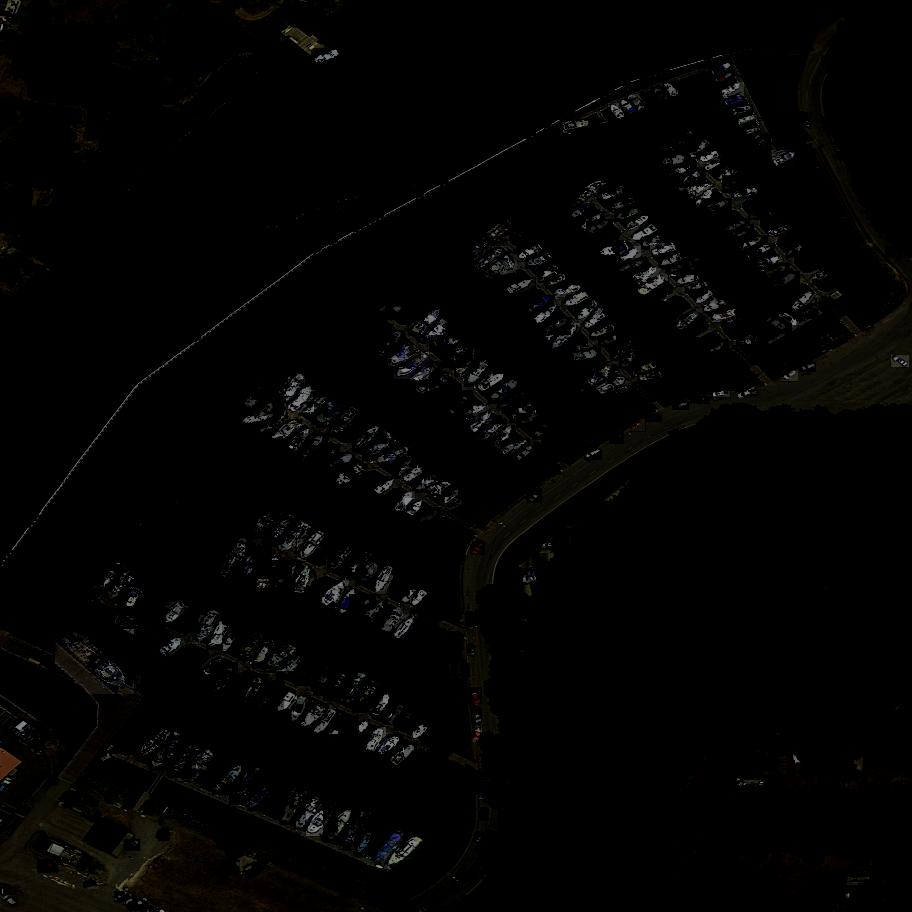ship: (55, 625, 135, 697), (232, 367, 285, 421), (462, 216, 518, 265), (102, 607, 166, 649), (345, 309, 388, 353), (216, 533, 252, 584), (230, 761, 269, 808), (150, 727, 186, 776), (262, 508, 303, 551), (247, 497, 284, 544), (323, 802, 363, 845), (339, 809, 374, 854), (135, 724, 174, 763), (384, 834, 424, 872), (179, 747, 219, 785), (260, 640, 301, 675), (278, 519, 315, 557), (409, 306, 447, 343), (569, 176, 610, 210), (254, 549, 284, 595), (312, 395, 349, 432), (213, 761, 250, 798), (236, 543, 272, 581), (352, 420, 388, 457), (87, 562, 125, 597), (323, 713, 360, 748), (270, 559, 304, 597), (328, 403, 361, 442), (253, 679, 286, 717), (373, 828, 405, 867), (294, 793, 324, 834), (353, 677, 384, 716), (340, 548, 374, 583), (330, 461, 368, 492), (394, 351, 430, 383), (307, 803, 339, 839), (194, 607, 222, 648), (382, 342, 421, 371), (359, 324, 394, 356), (169, 742, 197, 782), (297, 528, 327, 565), (385, 289, 418, 322), (310, 443, 341, 477), (487, 376, 522, 406), (444, 336, 474, 371), (237, 628, 266, 664), (105, 570, 134, 606), (238, 406, 281, 430), (279, 371, 306, 409), (319, 579, 351, 611), (270, 418, 304, 448), (299, 431, 329, 465), (324, 668, 353, 703), (342, 671, 368, 710), (247, 779, 275, 815), (375, 444, 415, 469), (297, 703, 329, 734), (475, 245, 508, 275), (281, 785, 304, 828), (212, 659, 238, 697), (295, 656, 323, 691), (652, 135, 698, 156), (588, 361, 619, 392), (286, 424, 318, 454), (444, 389, 474, 421), (277, 653, 309, 683), (550, 322, 580, 354), (455, 346, 484, 379), (415, 373, 452, 398), (411, 360, 444, 388), (299, 395, 337, 419), (676, 166, 706, 196), (260, 409, 292, 437), (475, 419, 507, 447), (378, 329, 406, 361), (373, 732, 405, 760), (350, 592, 377, 625), (161, 601, 191, 630), (328, 545, 355, 577), (417, 323, 457, 344), (363, 437, 394, 464), (313, 661, 335, 698), (287, 385, 315, 414), (356, 561, 384, 590), (207, 621, 233, 652), (292, 564, 315, 599), (245, 672, 268, 707), (596, 374, 629, 398), (611, 335, 639, 363), (464, 361, 491, 390), (639, 272, 669, 298), (315, 708, 340, 739), (390, 740, 418, 767), (477, 368, 507, 393), (393, 612, 418, 642), (668, 159, 698, 184), (374, 564, 396, 598), (429, 334, 468, 353), (525, 294, 554, 319), (289, 694, 311, 726), (383, 604, 405, 636), (675, 309, 703, 334), (365, 724, 387, 755), (252, 640, 274, 671), (745, 243, 776, 265), (790, 289, 816, 315), (158, 636, 185, 661), (370, 691, 393, 720), (501, 437, 531, 459), (338, 586, 359, 617), (469, 409, 495, 434), (561, 292, 593, 312), (493, 424, 515, 453), (739, 234, 768, 256), (510, 401, 536, 425), (442, 483, 466, 509), (576, 298, 600, 324), (394, 455, 417, 482), (534, 305, 561, 328), (702, 198, 733, 218), (311, 47, 341, 67), (581, 210, 606, 234), (507, 278, 537, 298), (416, 505, 442, 528), (385, 701, 408, 727), (484, 260, 517, 278), (618, 258, 649, 277), (328, 452, 356, 473), (413, 473, 441, 494), (545, 317, 573, 338), (356, 830, 376, 859), (525, 251, 554, 271), (497, 390, 522, 413), (201, 654, 224, 679), (632, 224, 659, 245), (598, 242, 631, 259), (539, 262, 563, 285), (568, 200, 592, 223), (373, 476, 398, 498), (582, 309, 607, 331), (587, 219, 614, 239), (428, 478, 456, 497), (764, 317, 792, 336), (367, 600, 390, 623), (276, 692, 298, 716), (666, 261, 701, 276), (396, 490, 416, 516), (628, 213, 654, 233), (546, 271, 572, 291), (517, 244, 544, 263), (774, 272, 801, 291), (395, 710, 417, 733), (620, 245, 642, 268), (697, 186, 718, 210), (348, 721, 373, 741), (660, 153, 691, 169), (615, 207, 644, 224), (532, 422, 555, 443), (705, 155, 729, 175), (517, 412, 543, 430), (633, 361, 659, 379), (572, 348, 601, 364), (516, 445, 538, 466), (406, 498, 427, 520), (626, 92, 647, 114), (707, 339, 730, 359), (590, 324, 617, 341), (764, 263, 791, 280), (220, 632, 239, 656), (773, 150, 797, 169), (124, 587, 141, 613), (786, 241, 809, 260), (401, 468, 425, 486), (599, 332, 624, 349), (410, 590, 430, 611), (723, 175, 744, 195), (598, 188, 626, 203), (735, 223, 754, 245), (702, 298, 728, 314), (687, 183, 716, 197), (731, 187, 760, 201), (619, 352, 639, 372), (659, 254, 684, 270), (690, 138, 711, 157), (752, 133, 771, 154), (695, 289, 716, 308), (650, 243, 678, 257), (722, 82, 745, 99), (634, 267, 660, 282), (608, 101, 627, 121), (446, 496, 466, 515), (619, 98, 638, 118), (400, 587, 421, 605), (555, 285, 582, 299), (722, 316, 749, 330), (564, 120, 593, 133), (727, 218, 750, 234), (662, 82, 681, 101), (779, 312, 799, 330), (698, 150, 720, 166), (758, 256, 783, 270), (711, 62, 734, 77), (651, 84, 669, 103), (715, 71, 735, 88), (677, 274, 701, 288), (716, 169, 738, 184), (462, 406, 489, 418), (413, 724, 431, 742), (609, 199, 636, 211), (749, 207, 770, 222), (638, 372, 662, 385), (713, 310, 737, 323), (685, 282, 709, 295), (641, 237, 664, 250), (767, 225, 790, 238), (614, 385, 634, 399), (808, 271, 829, 284), (739, 115, 759, 128), (732, 105, 753, 117), (347, 193, 365, 206), (800, 308, 819, 320), (487, 415, 503, 428), (737, 339, 760, 348), (103, 743, 117, 757), (747, 129, 762, 136)
small-vehicle: (738, 384, 762, 399), (37, 859, 59, 874), (128, 898, 149, 912), (886, 246, 904, 261), (629, 419, 647, 434), (468, 687, 483, 705), (527, 487, 542, 504), (891, 355, 909, 369), (584, 449, 603, 462), (124, 838, 140, 853), (609, 431, 625, 446), (471, 540, 486, 556), (532, 553, 549, 567), (799, 111, 812, 129), (783, 369, 798, 384), (865, 410, 887, 420), (4, 893, 19, 907), (114, 891, 130, 904), (789, 749, 801, 766), (471, 707, 483, 724), (843, 411, 862, 421), (799, 362, 816, 373), (474, 831, 486, 846), (542, 542, 562, 551), (465, 612, 476, 628), (691, 396, 710, 405), (527, 568, 541, 580), (159, 828, 170, 843), (713, 391, 731, 400), (84, 880, 100, 890), (474, 726, 484, 742), (522, 575, 538, 584), (822, 55, 832, 68), (673, 403, 689, 411), (479, 788, 489, 800), (646, 415, 662, 422), (124, 898, 139, 905), (467, 645, 475, 655), (481, 810, 488, 820), (480, 769, 487, 779)
